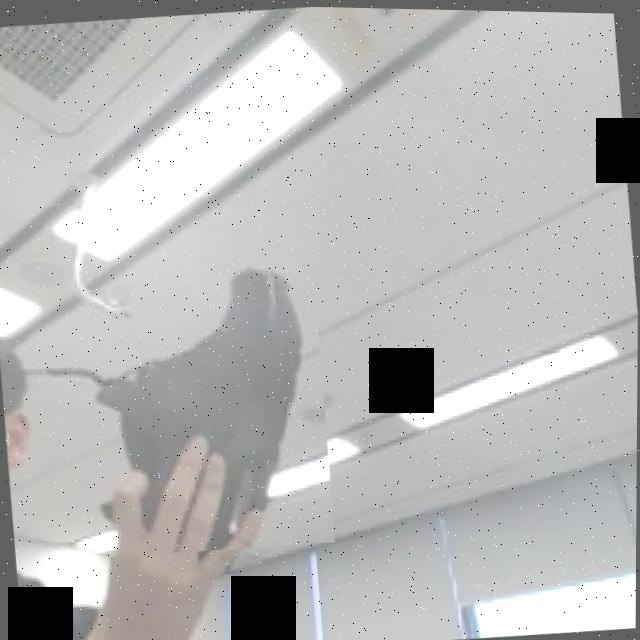shoe: (34, 268, 337, 564)
